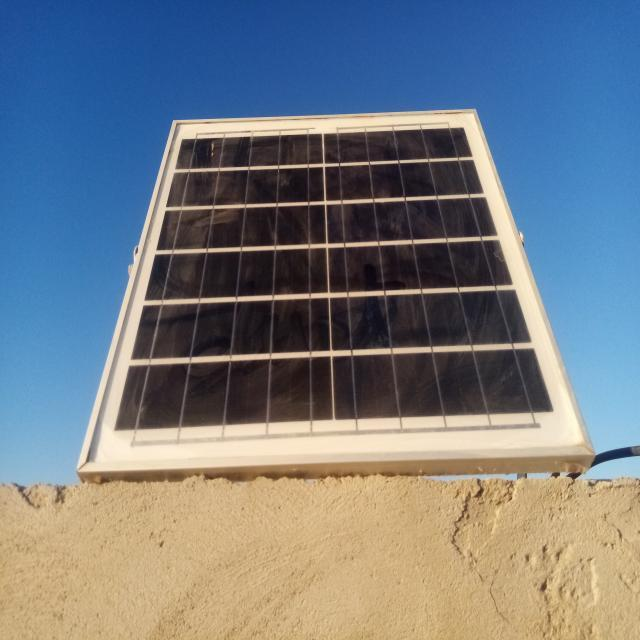faulty: (82, 110, 590, 466)
